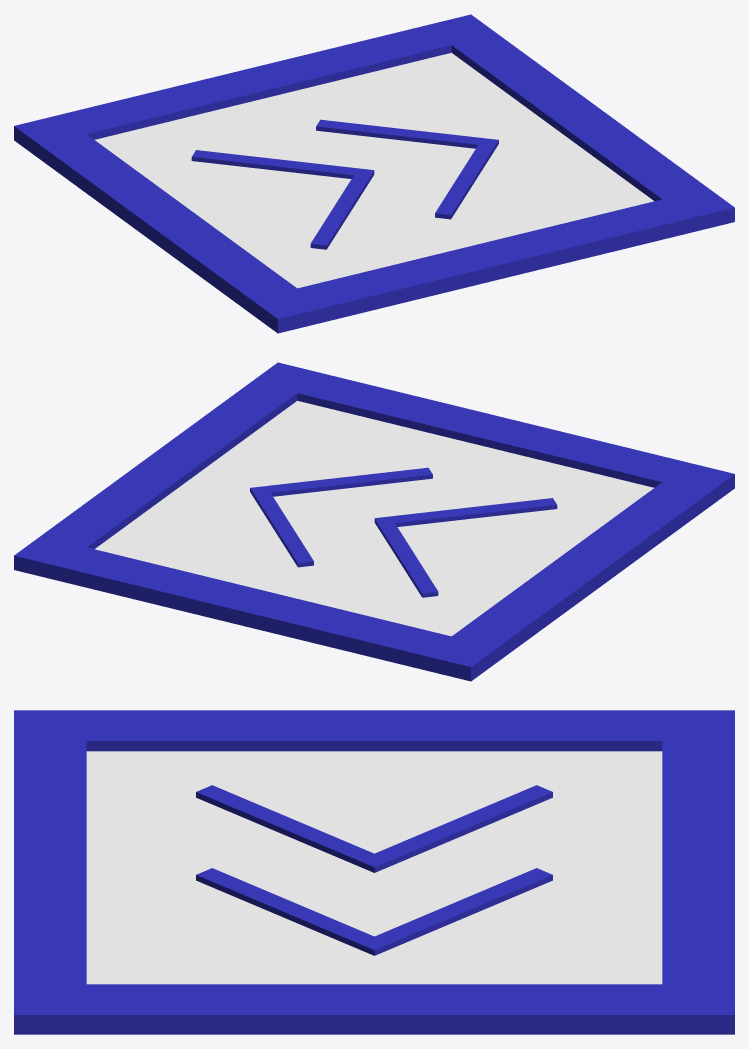
File: jumppad_blue.fbx
3 renders of one model, top to bottom at view 1: azimuth 30°, elevation 25°; view 2: azimuth 150°, elevation 25°; view 3: azimuth 270°, elevation 25°, orthographic. The views are drawn at different scales.
Parts seen in each view (by area): view 1: Mesh; view 2: Mesh; view 3: Mesh.
Part boxes in pixels (x1,y1,x2,y2): Mesh: [14, 14, 734, 333]; Mesh: [14, 362, 734, 681]; Mesh: [14, 710, 734, 1034].
Size of the model in its own units: 1 by 0.0302 by 1.
